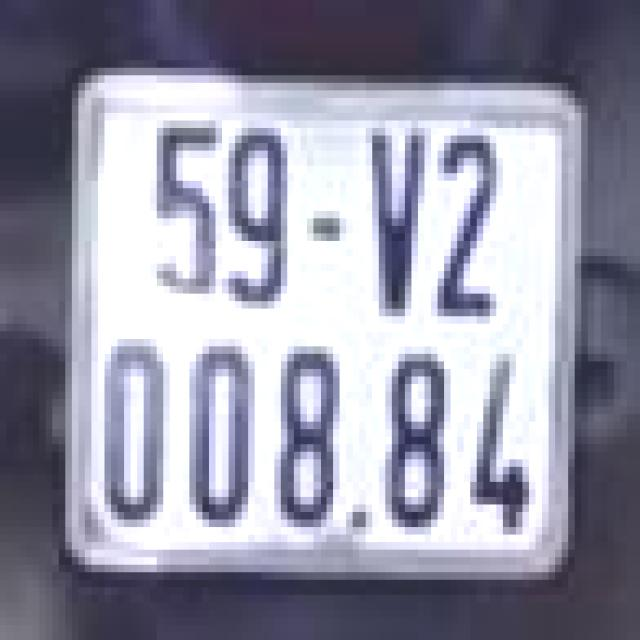0: (88, 331, 173, 535), (180, 335, 264, 531)
2: (438, 136, 510, 324)
4: (467, 342, 545, 538)
5: (140, 102, 226, 305)
8: (268, 338, 359, 534), (375, 342, 454, 538)
9: (222, 124, 300, 320)
V: (359, 109, 431, 320)
